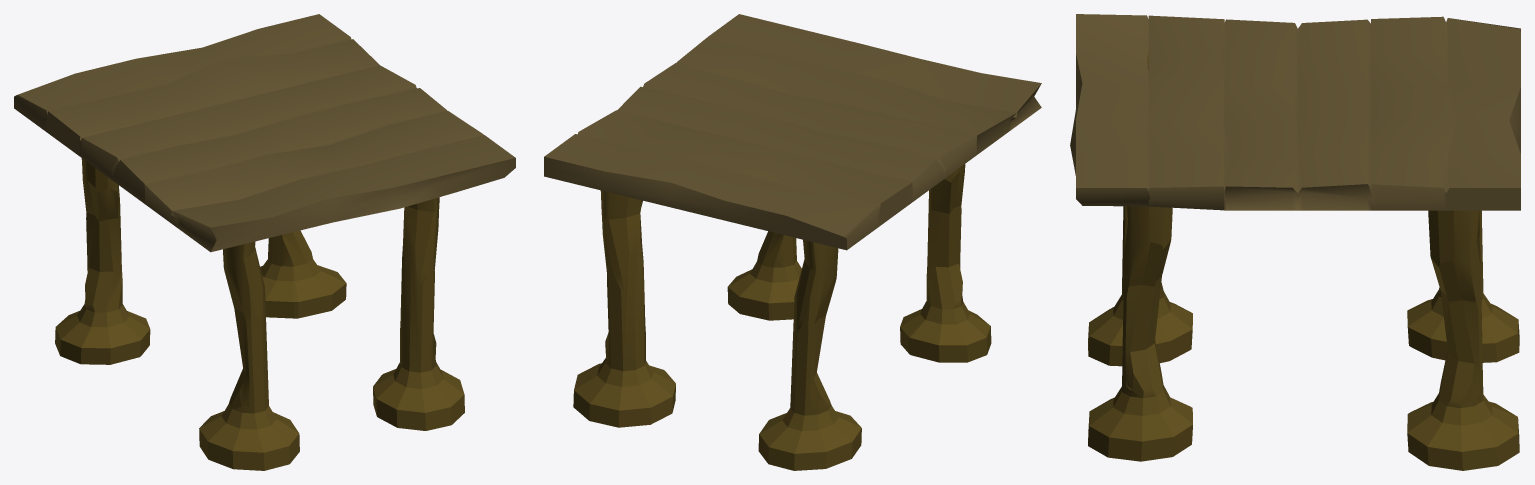
The model's file is Wood_Table.fbx.
3 renders of one model, left to right at view 1: azimuth 30°, elevation 25°; view 2: azimuth 150°, elevation 25°; view 3: azimuth 270°, elevation 25°, orthographic. The views are drawn at different scales.
Visible parts, largest first — view 1: polySurface14; view 2: polySurface14; view 3: polySurface14.
Part boxes in pixels (x1,y1,x2,y2): polySurface14: (14, 14, 515, 470); polySurface14: (544, 14, 1041, 470); polySurface14: (1070, 14, 1520, 470).
Bounding box in the file's own units: 29.5 × 23.8 × 32.6.
